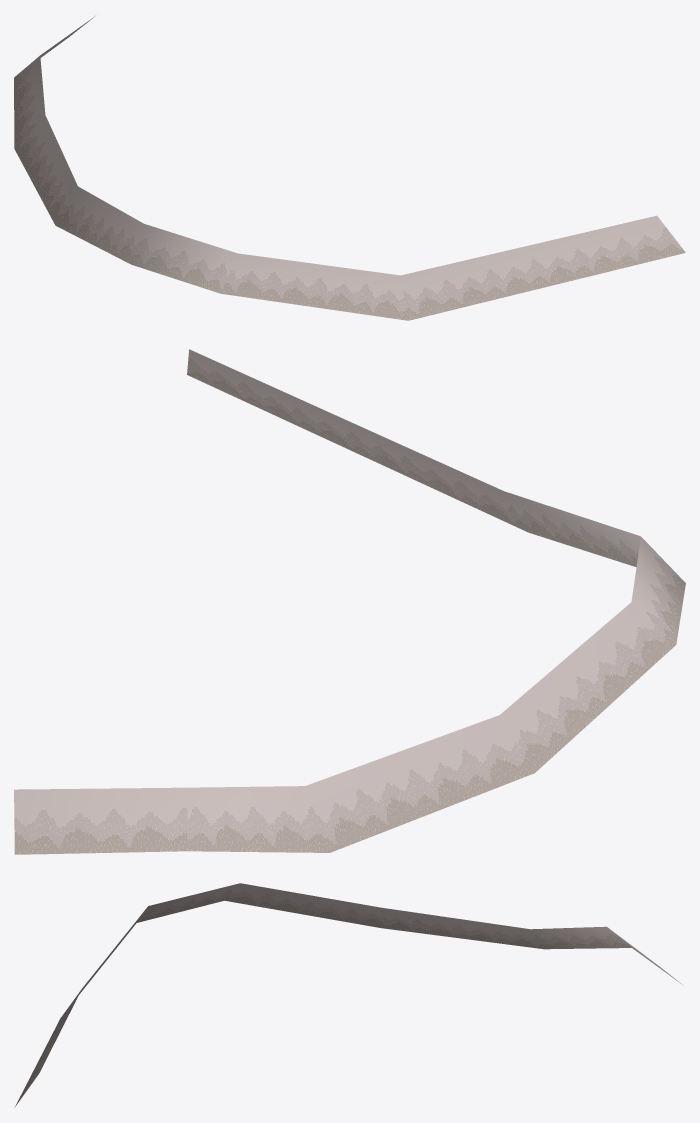
Rendered from kd_stage_1363c5_6_23.glb.
3 renders of one model, top to bottom at view 1: azimuth 30°, elevation 25°; view 2: azimuth 150°, elevation 25°; view 3: azimuth 270°, elevation 25°, orthographic. The views are drawn at different scales.
Visible parts, largest first — view 1: kd_stage_1363c5_6_23; view 2: kd_stage_1363c5_6_23; view 3: kd_stage_1363c5_6_23.
Part boxes in pixels (x1=…): kd_stage_1363c5_6_23: x1=14, y1=16, x2=685, y2=320; kd_stage_1363c5_6_23: x1=14, y1=349, x2=685, y2=854; kd_stage_1363c5_6_23: x1=15, y1=883, x2=683, y2=1106.
Bounding box in the file's own units: 121 × 17.37 × 174.
Materials: 1 (1 with a texture image).
